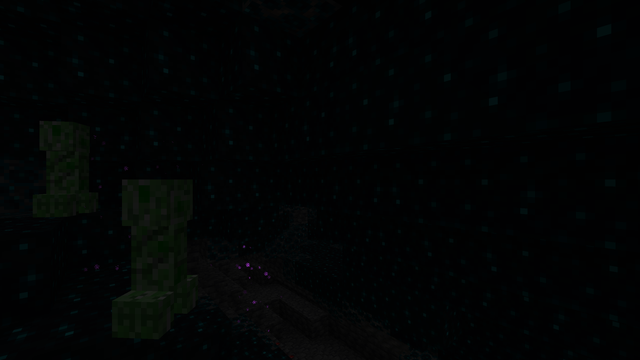creepers: (126, 172, 194, 341), (40, 114, 90, 217)
